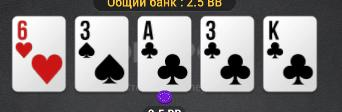3c: (202, 18, 252, 91)
3s: (77, 18, 127, 91)
6h: (13, 18, 65, 90)
Ac: (140, 18, 190, 90)
Kc: (265, 18, 315, 90)
